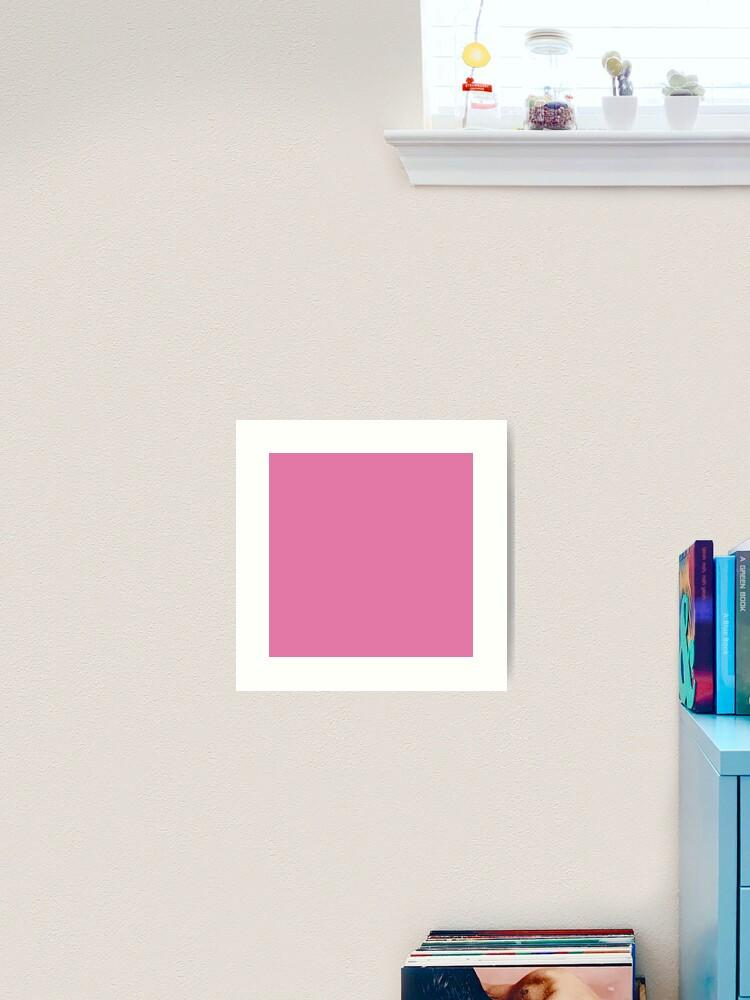pink_zone: (265, 445, 482, 668)
